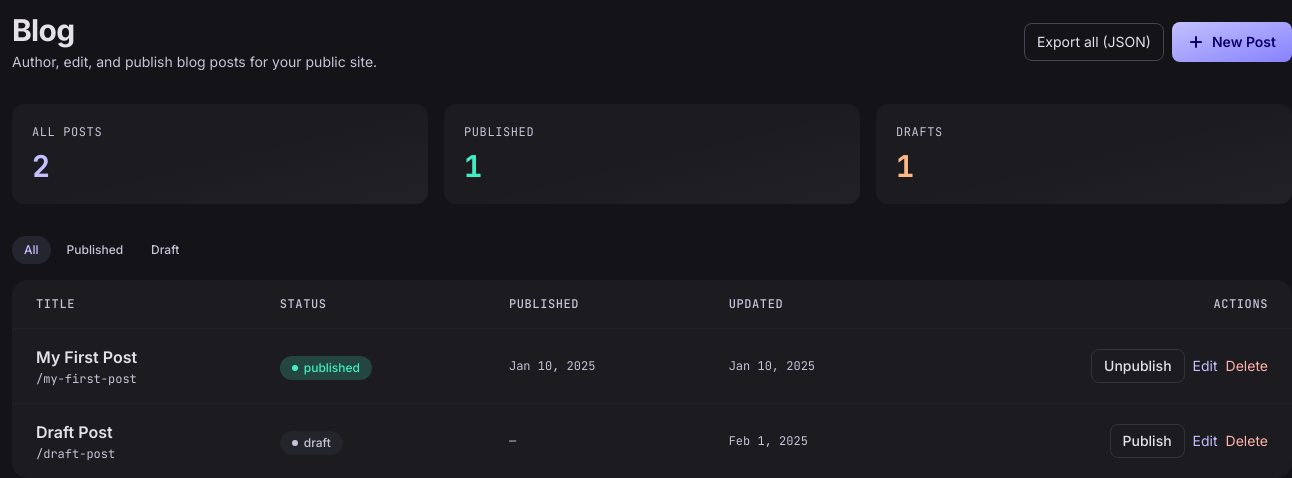
it: BlogAdminPage › filters to draft posts only
Click the tab "draft" at [165, 250], box [139,236,191,264]
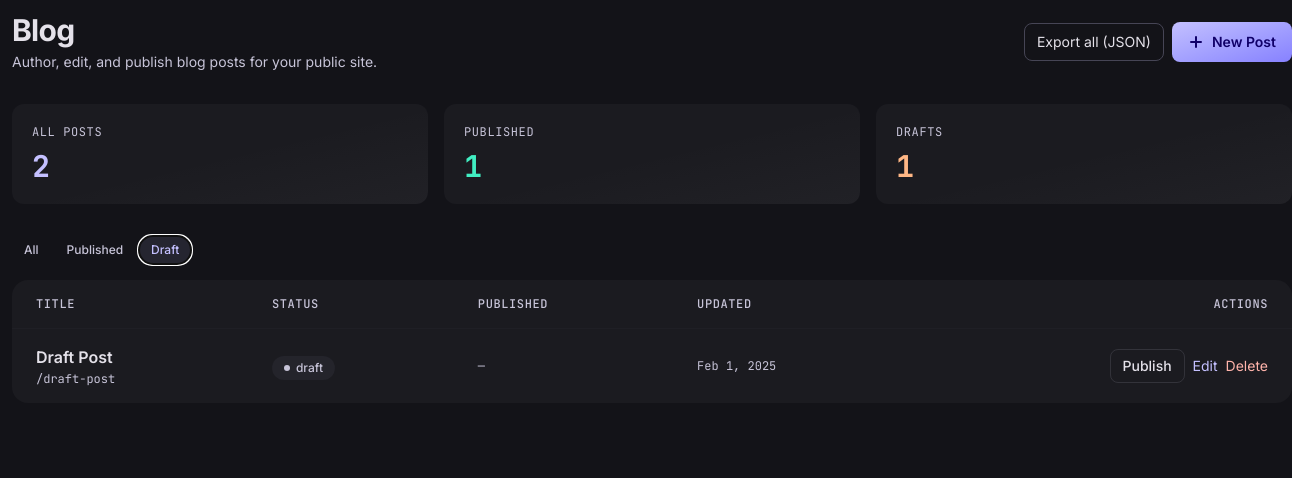
expect the link "Draft Post" is shown: met, box [36,347,113,367]
expect the link "My First Post" is gone: met
